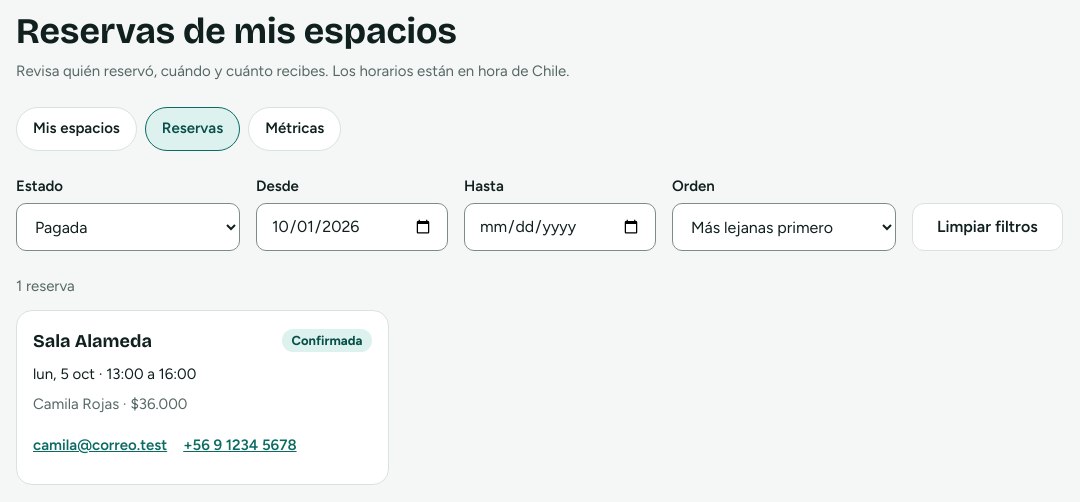
Scenario: OwnerBookingsPage (PN-02) › filtros › "Limpiar filtros" aparece con filtros y los quita
Check: the heading "Sala Alameda" is shown, box [33,326,152,354]
Click the button "Limpiar filtros": (987, 227) [912,203,1063,251]
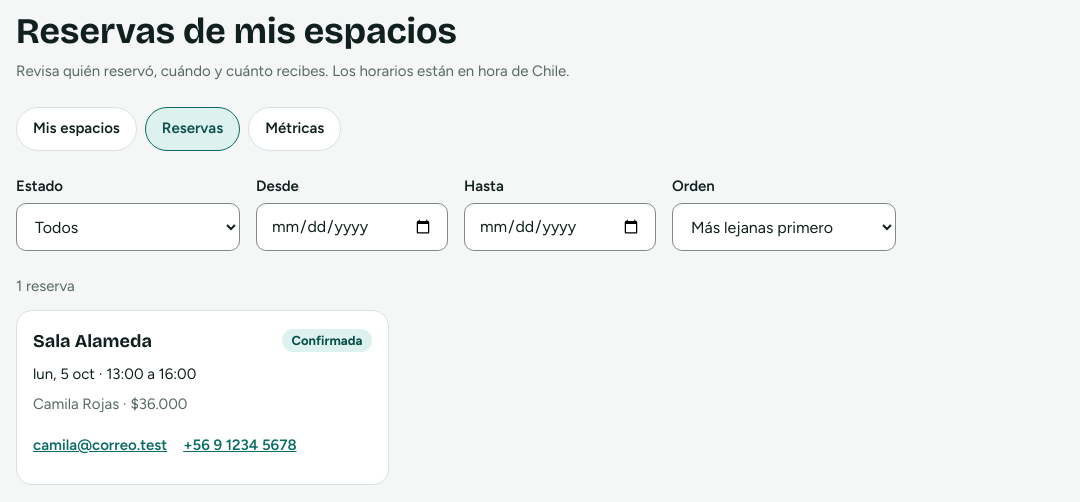
Check: the button "Limpiar filtros" is gone
